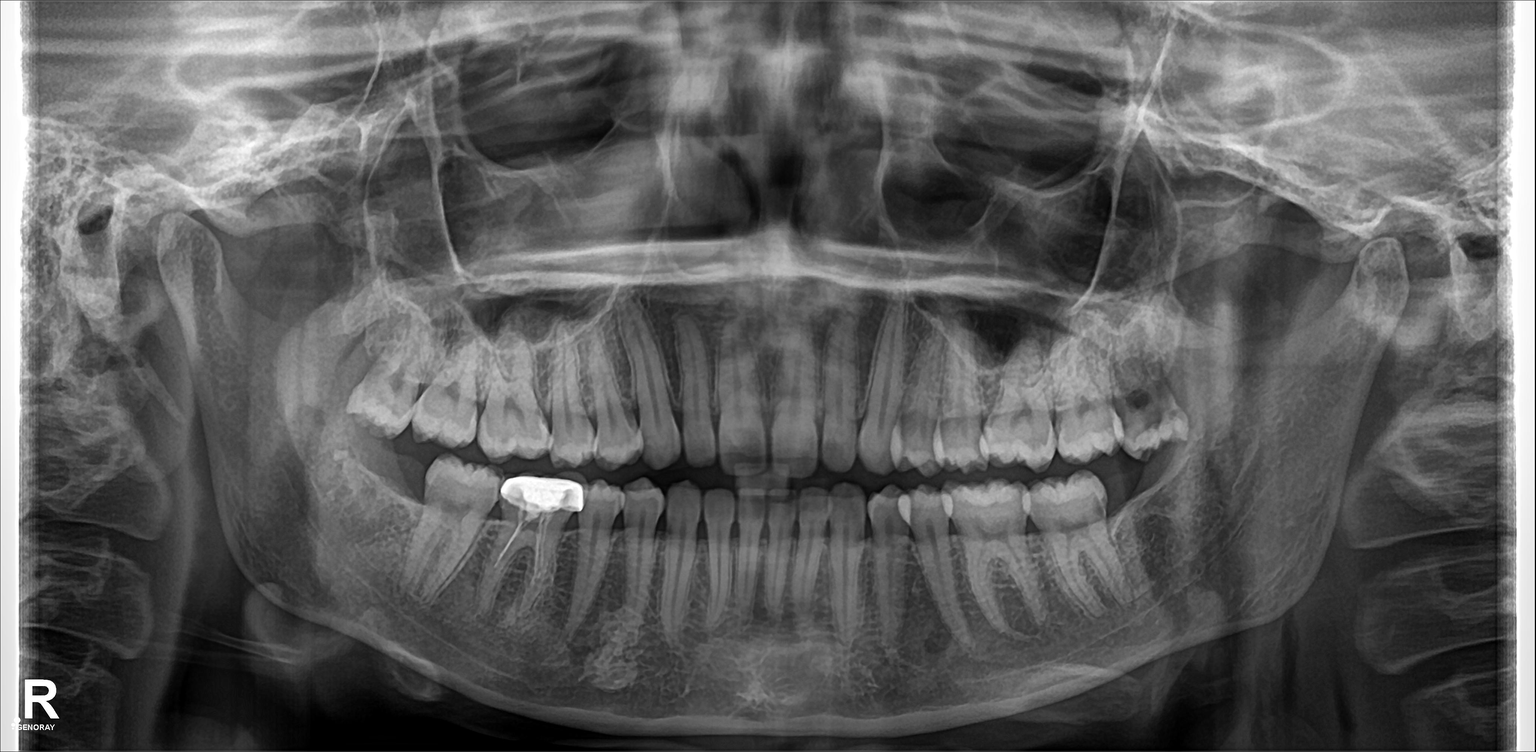Endodontically Treated Tooth: (499, 478, 569, 621)
Missing Tooth: (350, 437, 422, 535), (1110, 471, 1171, 547)
